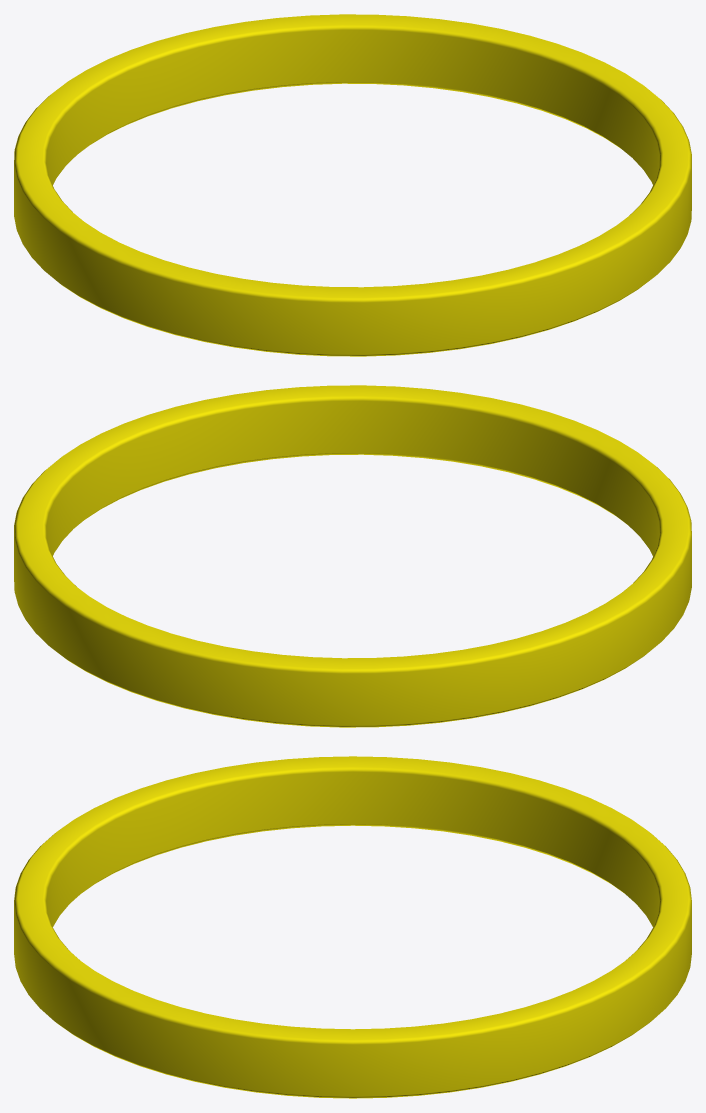
3 renders of one model, top to bottom at view 1: azimuth 30°, elevation 25°; view 2: azimuth 150°, elevation 25°; view 3: azimuth 270°, elevation 25°, orthographic.
Parts seen in each view (by area): view 1: seal_body; view 2: seal_body; view 3: seal_body.
Part boxes in pixels (left/top/right/bottom): seal_body: left=14, top=14, right=691, bottom=356; seal_body: left=14, top=385, right=691, bottom=727; seal_body: left=14, top=756, right=691, bottom=1098.
Bounding box in the file's own units: 0.073 × 0.007 × 0.073.
